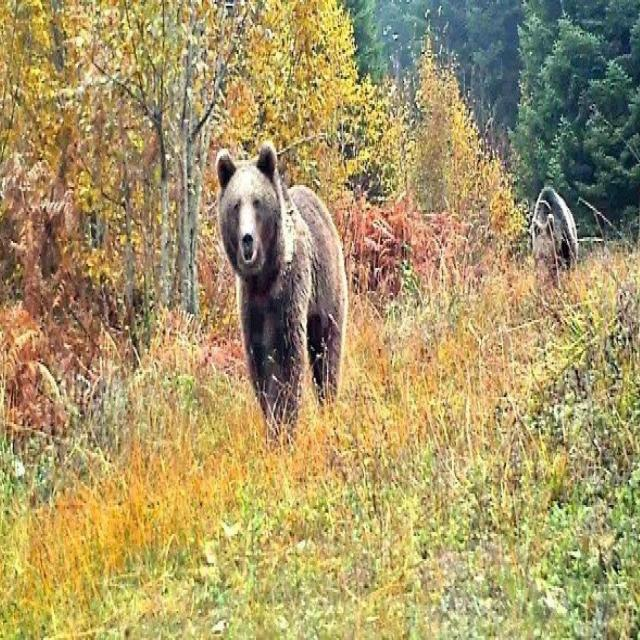Bear: (213, 145, 350, 442), (531, 188, 580, 270)
